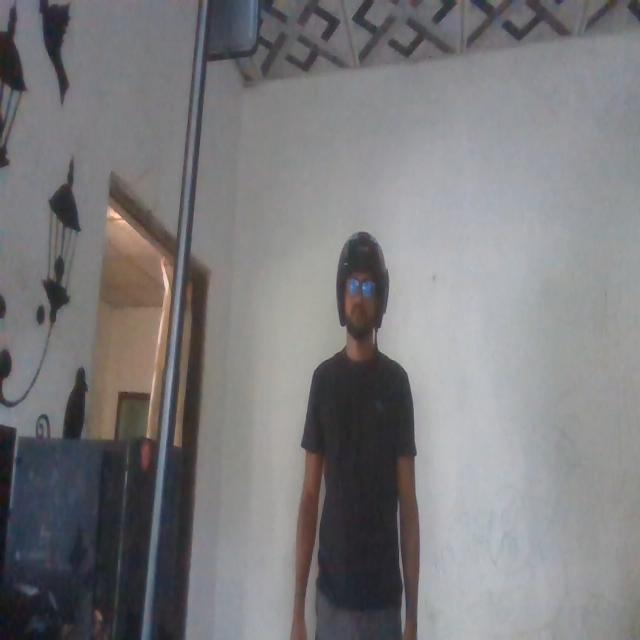Helmet_Wearer: (331, 230, 391, 370)
Person: (289, 216, 426, 640)
